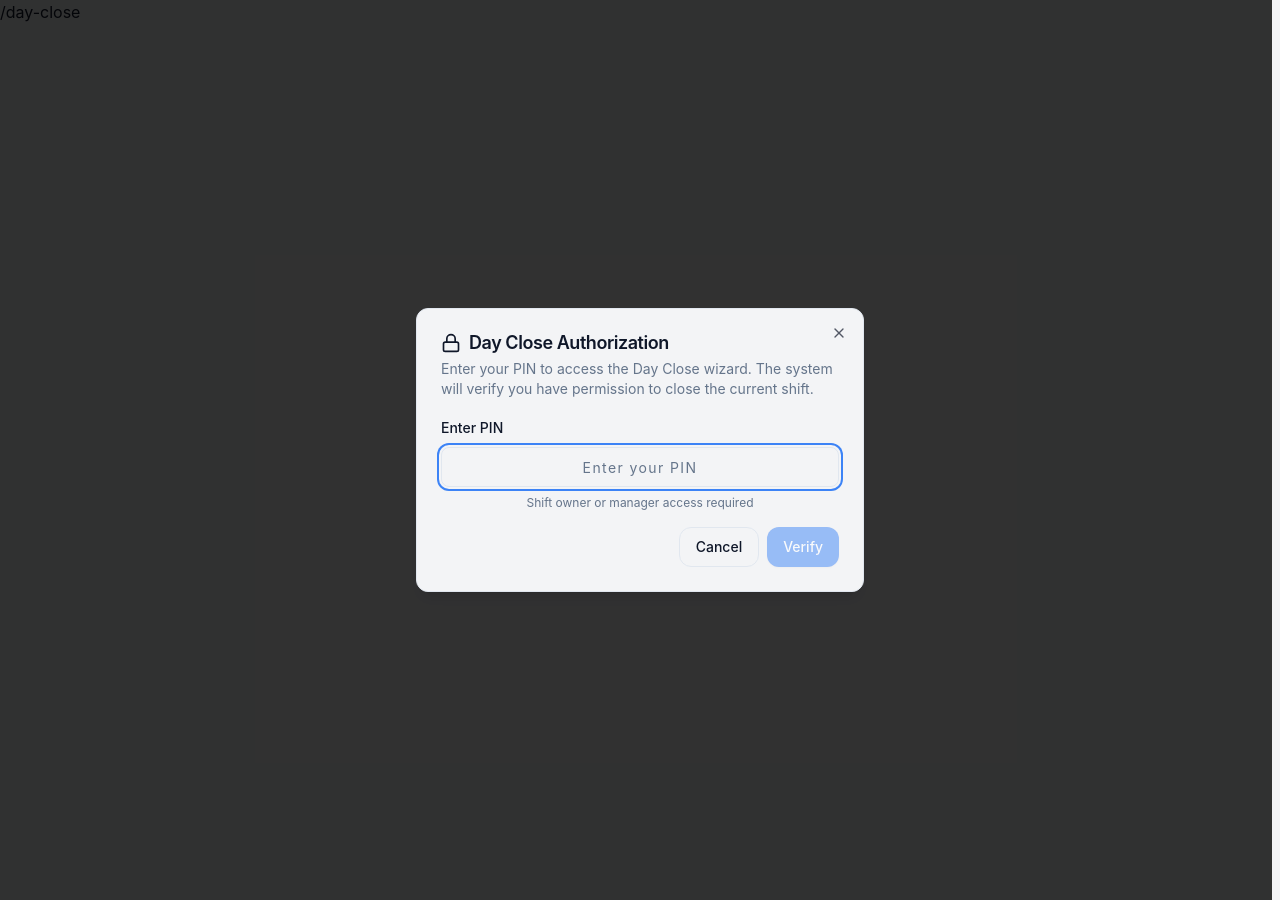
Test: Shift Close Workflow Security Tests (Phase 5) › 5.1.4: Unauthorized role cannot access wizard › should enforce backend role validation even with valid PIN format
In the password field with test id "day-close-pin-input": point(640, 467) [441,447,839,487], type "1234"
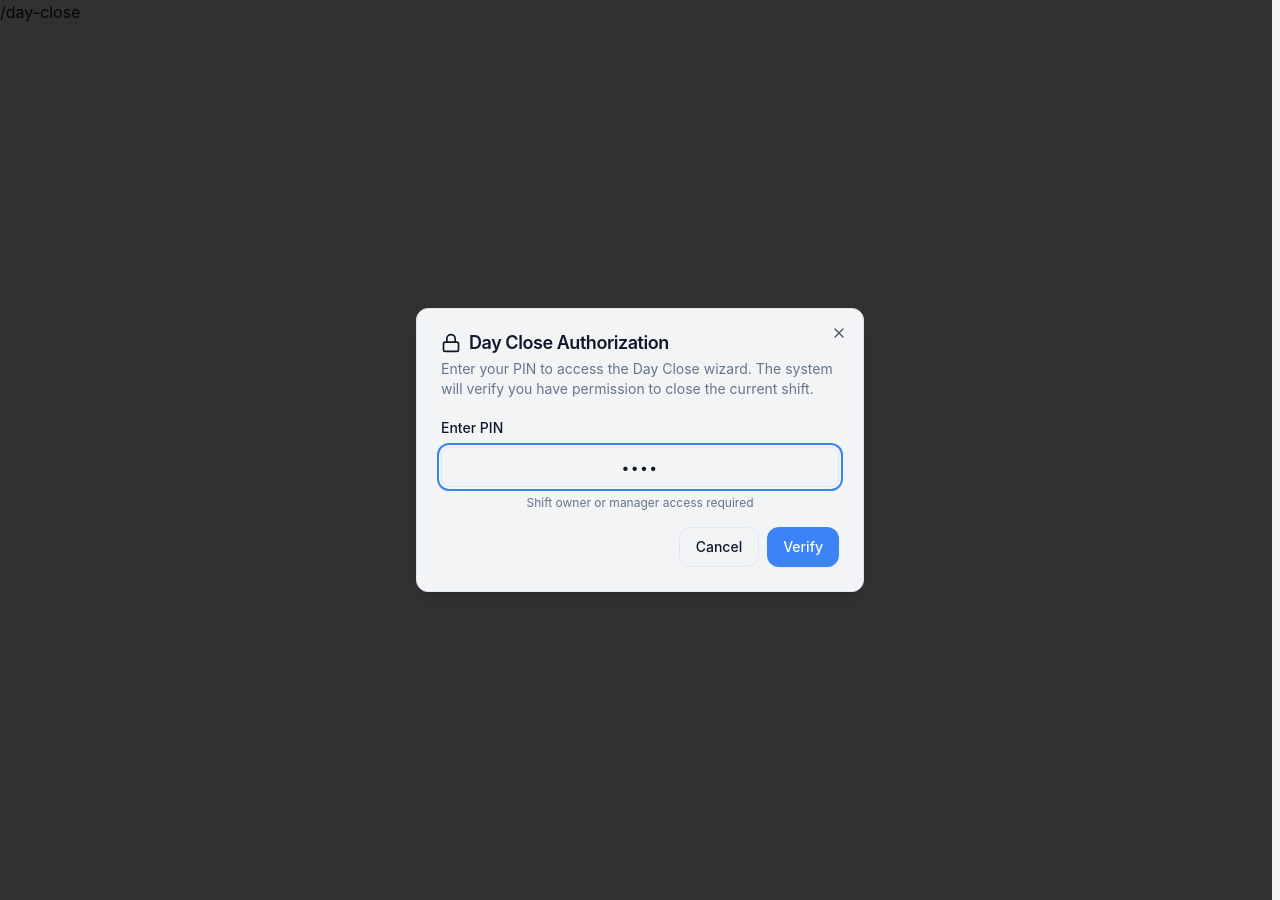
Click the button with test id "day-close-verify-btn": point(803, 547) [767,527,839,567]
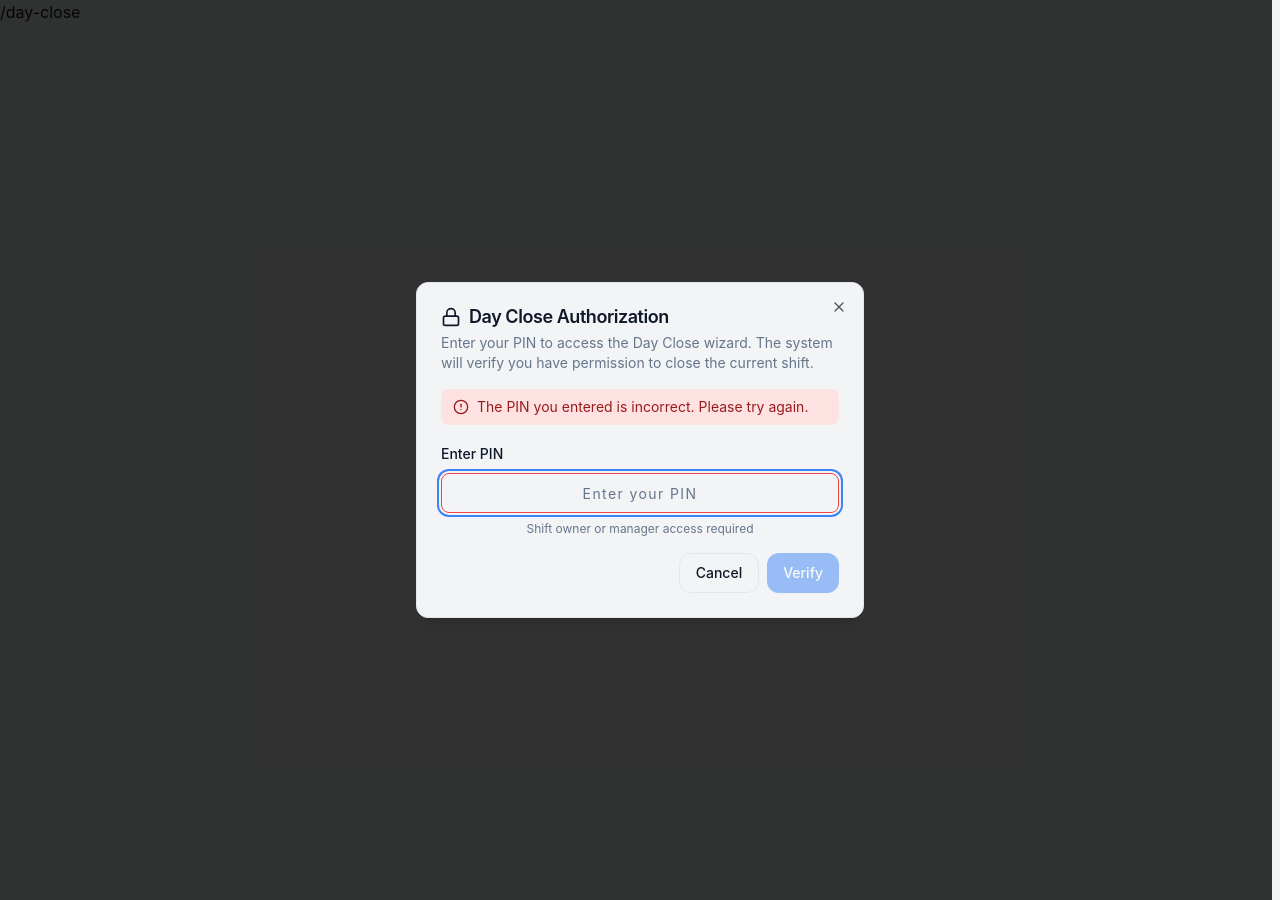
Now the text "The PIN you entered is incorrect. Please try again." is shown, box [477,397,808,417]
